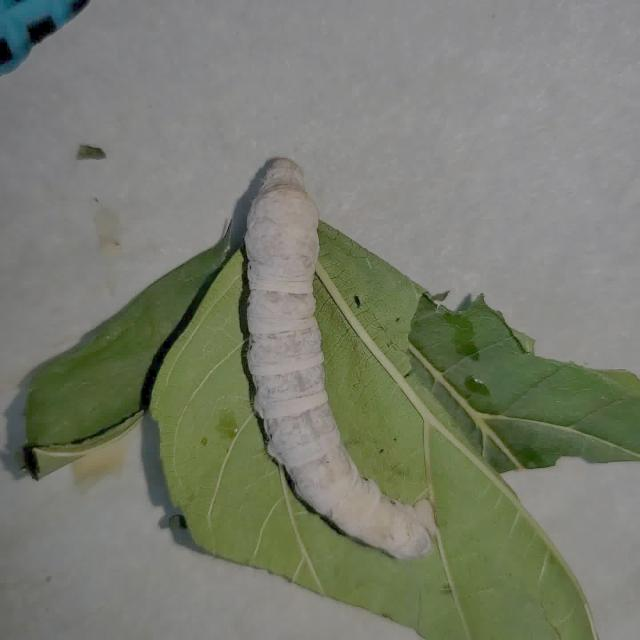Grasserie: (234, 148, 446, 563)
